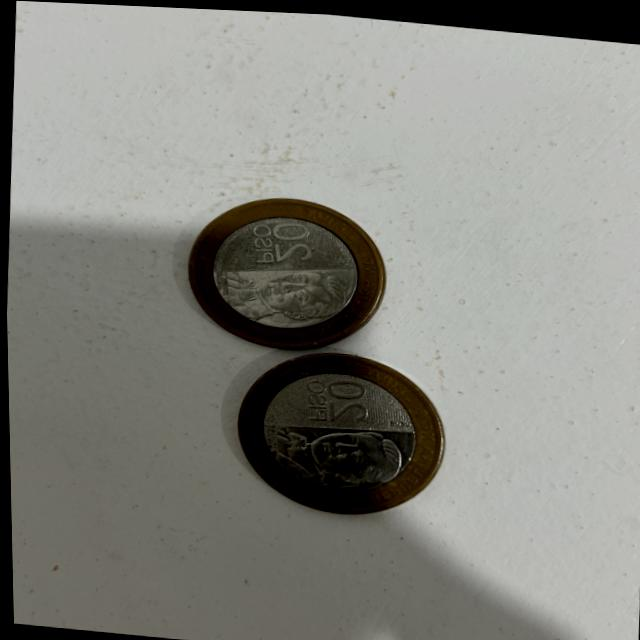20_New_Front: (234, 211, 320, 276), (305, 371, 376, 425)
